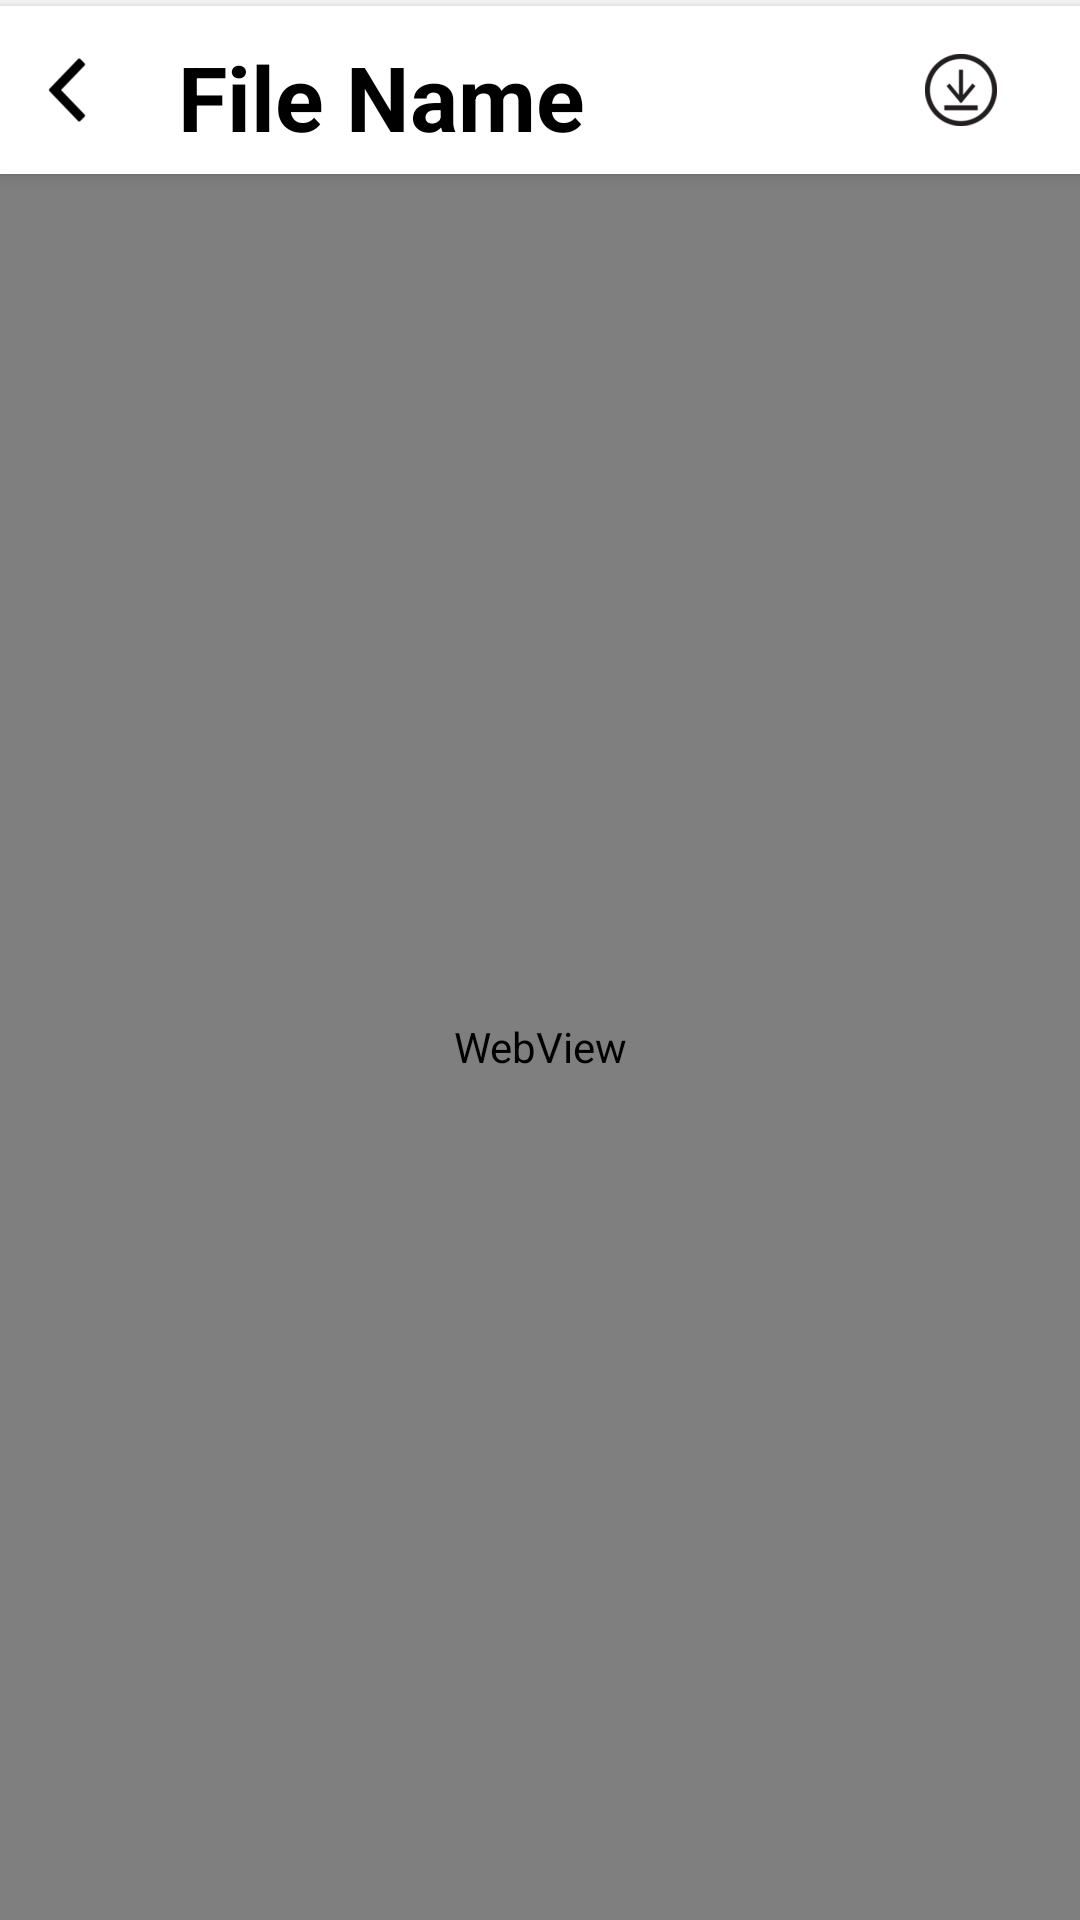

Named icons in this screenshot (1080 x 1920) and their centers, point (x, y):
back: point (67, 90)
download: point (961, 90)
